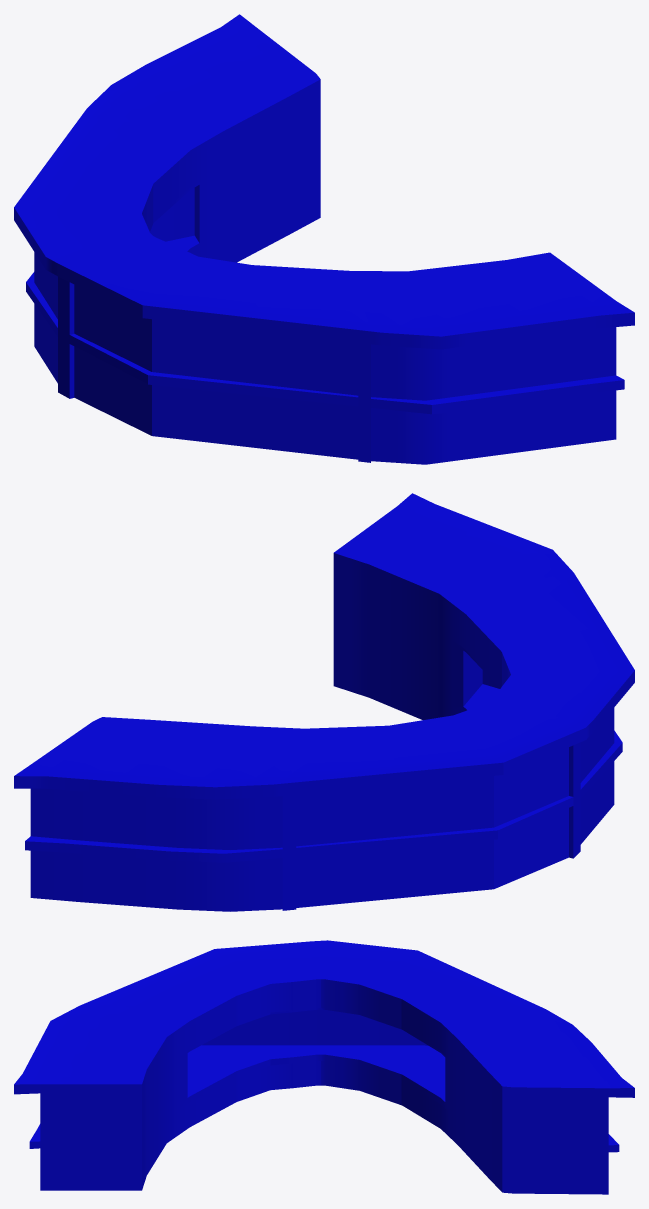
Rendered from SetoMainDesk.fbx.
3 views of the same model, one above another, from view 1: azimuth 30°, elevation 25°; view 2: azimuth 150°, elevation 25°; view 3: azimuth 270°, elevation 25° (orthographic). The views are drawn at different scales.
Visible parts, largest first — view 1: MainDesk; view 2: MainDesk; view 3: MainDesk.
Boxes of the visible parts, x1,y1,x2,y2 form: MainDesk: [14, 14, 634, 464]; MainDesk: [14, 493, 634, 911]; MainDesk: [14, 940, 634, 1194].
Size of the model in its own units: 277 by 93.29 by 492.
